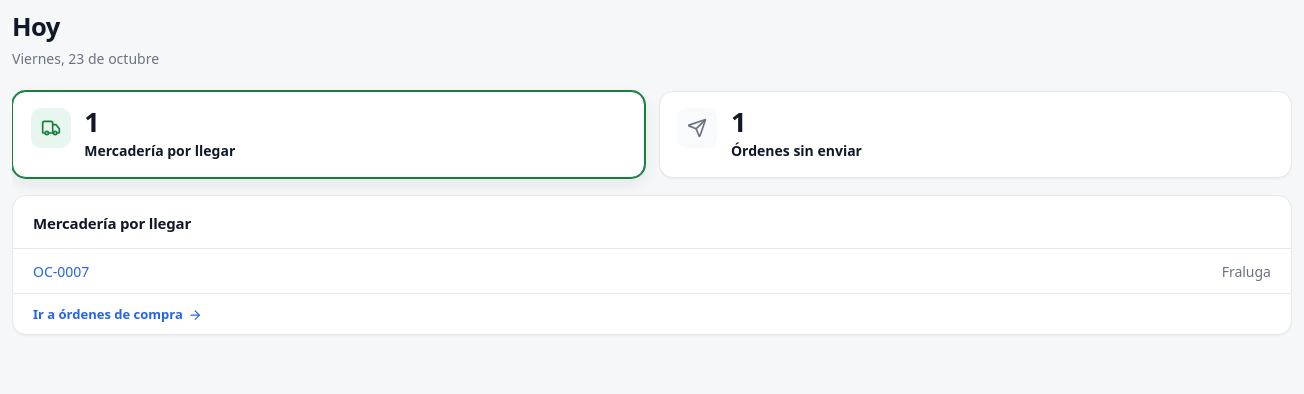
Test: InicioPage — ordenes sin enviar › REGRESION: no se mezclan con las que ya salieron
Se ve una lista por vez: la de la tarjeta que se toca.
What coordinates should you click on to do the following:
click the button "1 Órdenes sin enviar"
I would click on:
 (697, 128)
Its box is [659, 91, 1292, 178].
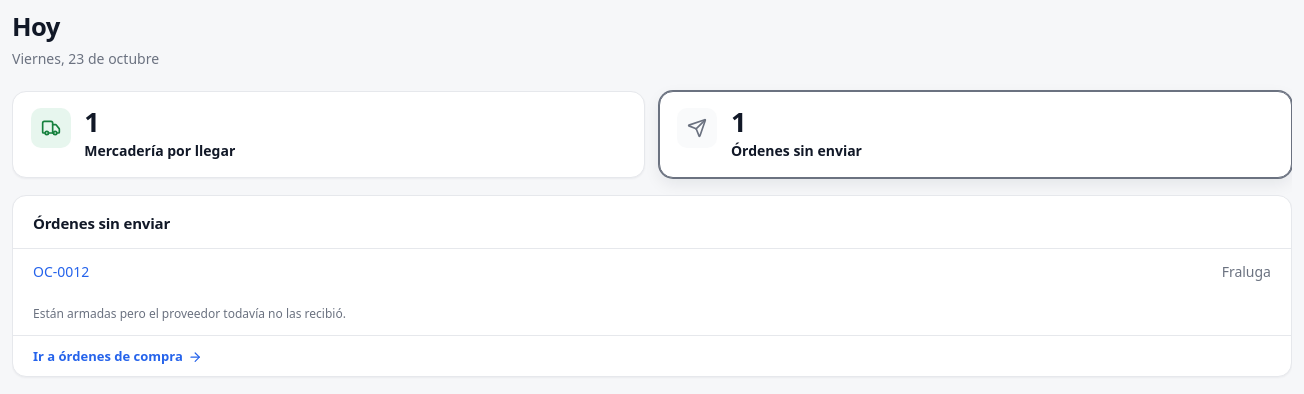
Check: the element "Órdenes sin enviar" shows "OC-0012", box [33, 260, 89, 282]
Check: the element "Órdenes sin enviar" no longer shows "OC-0007", box [12, 195, 1292, 377]
What coordinates should you click on to do the following:
click the button "1 Mercadería por llegar"
I would click on:
 (51, 128)
Its box is [12, 91, 645, 178].
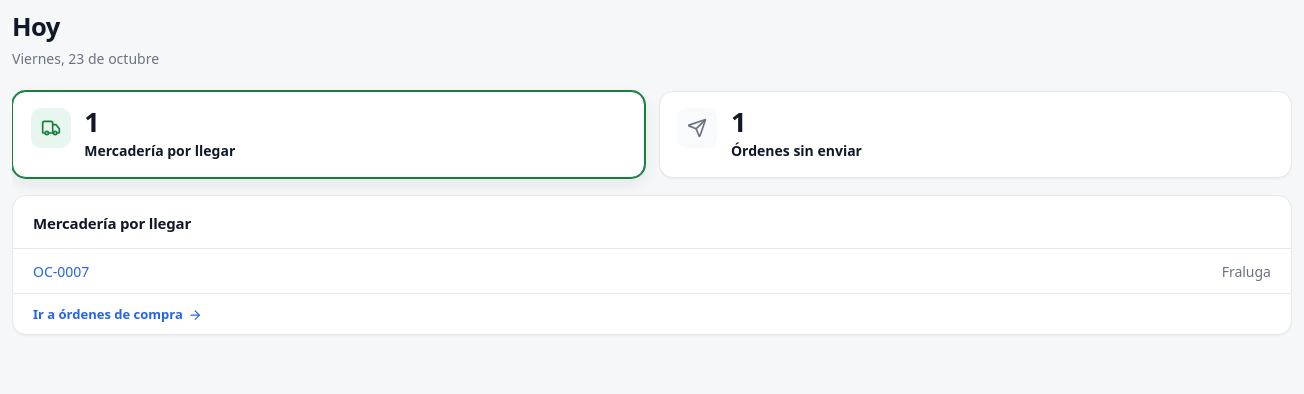
Check: the element named "Órdenes sin enviar" shows "OC-0007", box [33, 260, 89, 282]
Check: the element named "Órdenes sin enviar" no longer shows "OC-0012", box [12, 195, 1292, 335]
